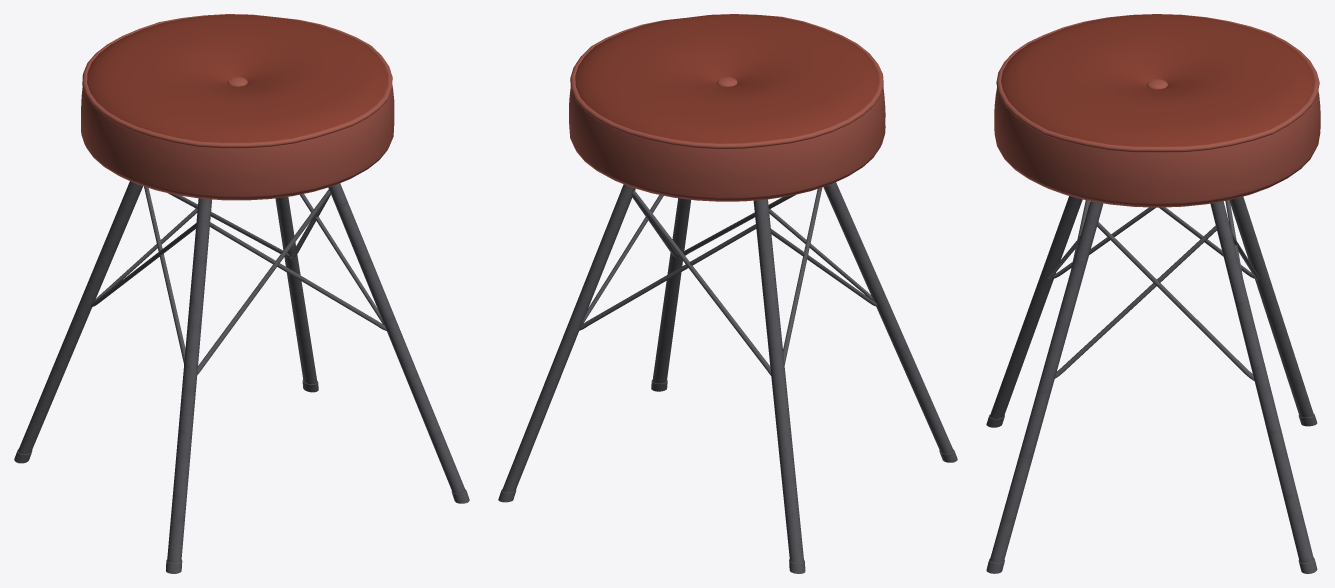
The model's file is stool_B07B8F6V9M.glb.
3 renders of one model, left to right at view 1: azimuth 30°, elevation 25°; view 2: azimuth 150°, elevation 25°; view 3: azimuth 270°, elevation 25°, orthographic. The views are drawn at different scales.
Visible parts, largest first — view 1: RootNode; view 2: RootNode; view 3: RootNode.
Boxes of the visible parts, x1,y1,x2,y2 form: RootNode: [14, 14, 469, 573]; RootNode: [498, 14, 957, 573]; RootNode: [986, 14, 1320, 573].
Size of the model in its own units: 0.4571 by 0.5931 by 0.4213.
1 material, 1 textured.
